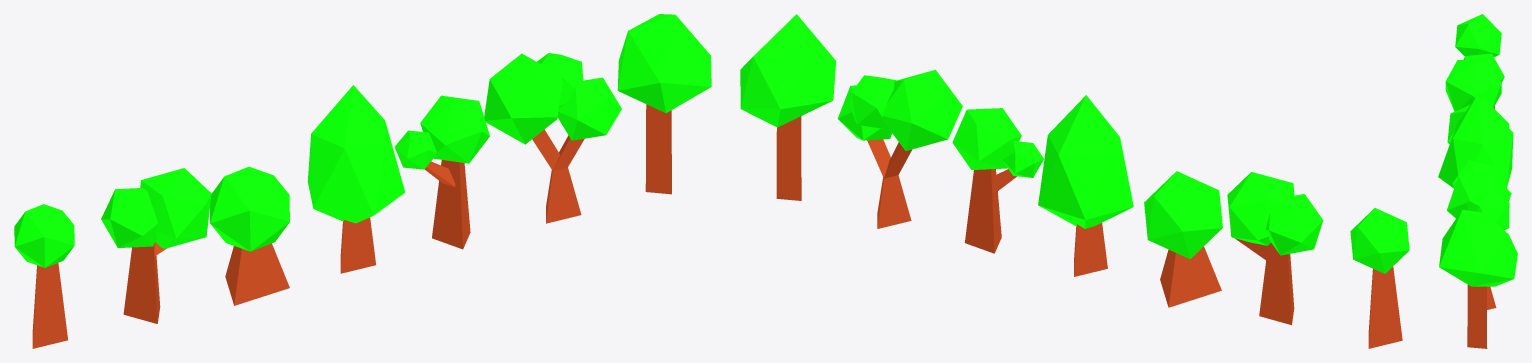
The model's file is trees.fbx.
3 views of the same model, side by side, from view 1: azimuth 30°, elevation 25°; view 2: azimuth 150°, elevation 25°; view 3: azimuth 270°, elevation 25° (orthographic). The views are drawn at different scales.
Visible parts, largest first — view 1: tree.006, tree.008, tree.007, tree.001, tree.003, tree.004, tree; view 2: tree.008, tree.006, tree.007, tree.001, tree.003, tree.004, tree; view 3: tree.007, tree.008, tree.006, tree.001, tree, tree.004, tree.003.
Boxes of the visible parts, <box> form: tree.006: <box>484,53,621,223</box>; tree.008: <box>307,85,405,273</box>; tree.007: <box>617,14,711,194</box>; tree.001: <box>101,168,211,323</box>; tree.003: <box>210,166,289,305</box>; tree.004: <box>394,95,489,249</box>; tree: <box>14,204,74,348</box>; tree.008: <box>1038,95,1133,276</box>; tree.006: <box>837,69,962,228</box>; tree.007: <box>740,14,836,200</box>; tree.001: <box>1227,172,1323,325</box>; tree.003: <box>1144,171,1222,307</box>; tree.004: <box>952,108,1043,253</box>; tree: <box>1350,208,1409,348</box>; tree.007: <box>1439,210,1517,348</box>; tree.008: <box>1438,96,1513,188</box>; tree.006: <box>1447,171,1511,309</box>; tree.001: <box>1445,53,1504,111</box>; tree: <box>1455,14,1501,109</box>; tree.004: <box>1452,160,1503,188</box>; tree.003: <box>1447,99,1509,189</box>.
Size of the model in its own units: 33.99 by 8.48 by 4.46.
